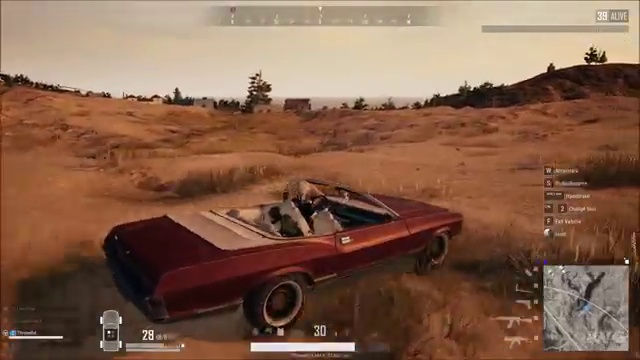Player: (236, 171, 345, 233)
